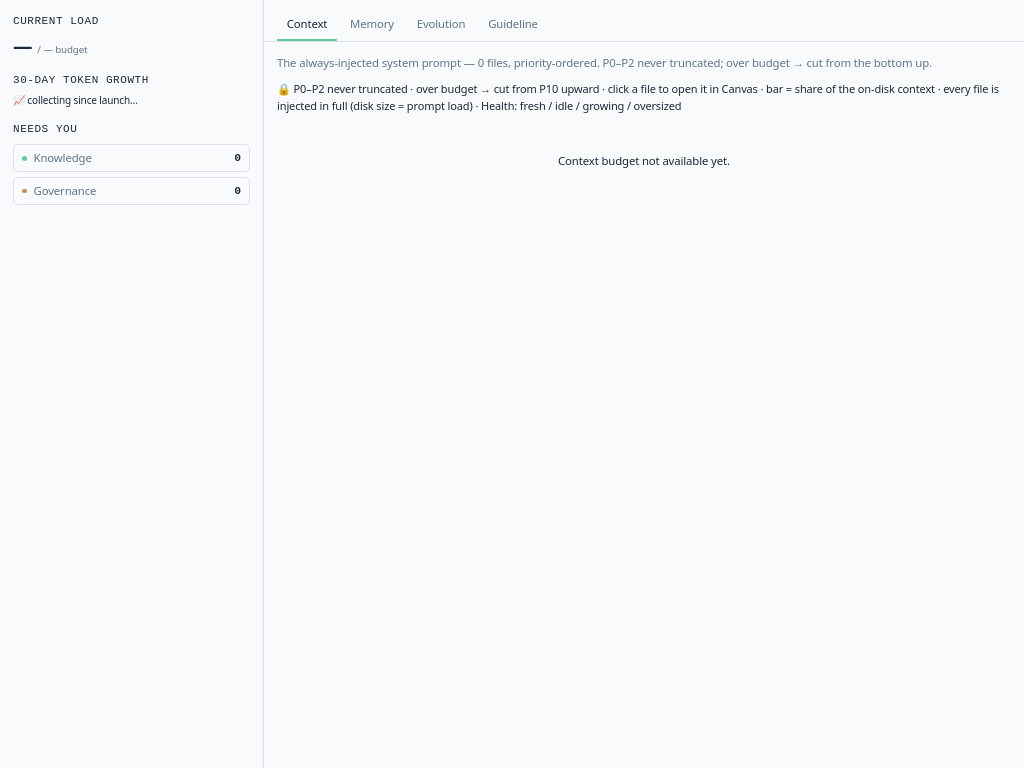
Test: CMBrainOverlay — Memory tab (7-type graph + drill, DoD2) › renders an empty-but-valid graph when all node counts are zero
Click the button with test id "cm-tab-memory" at coordinates (372, 25), box [340,10,404,41]
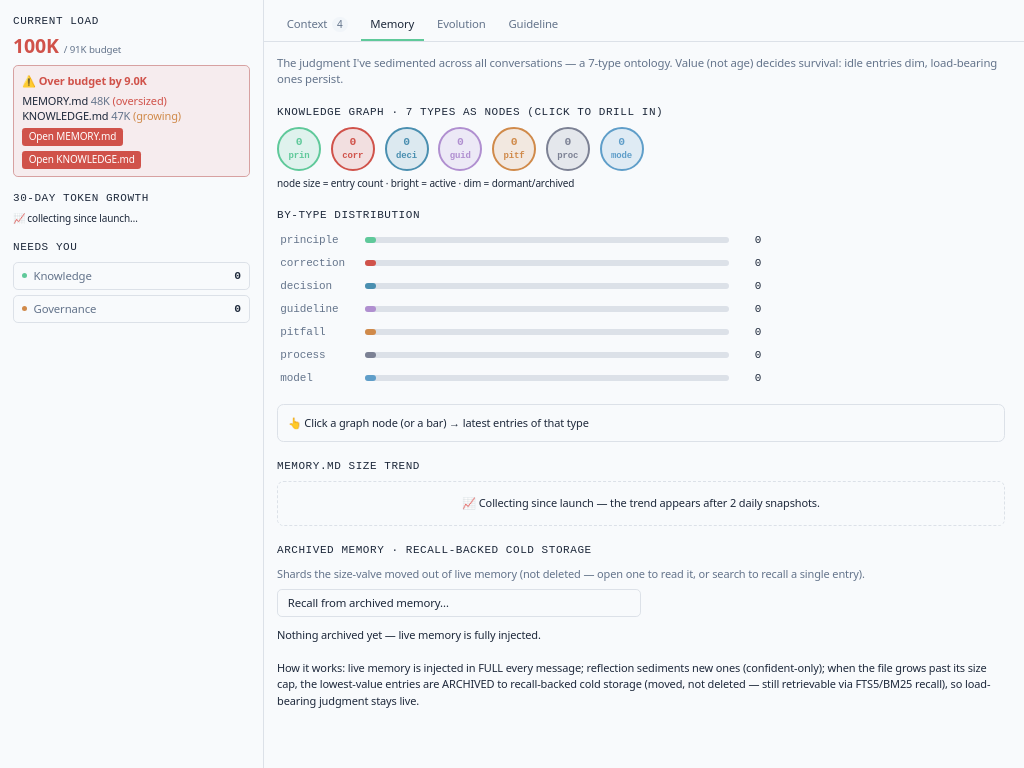
Expected: the element with test id "cm-panel-memory" is shown
